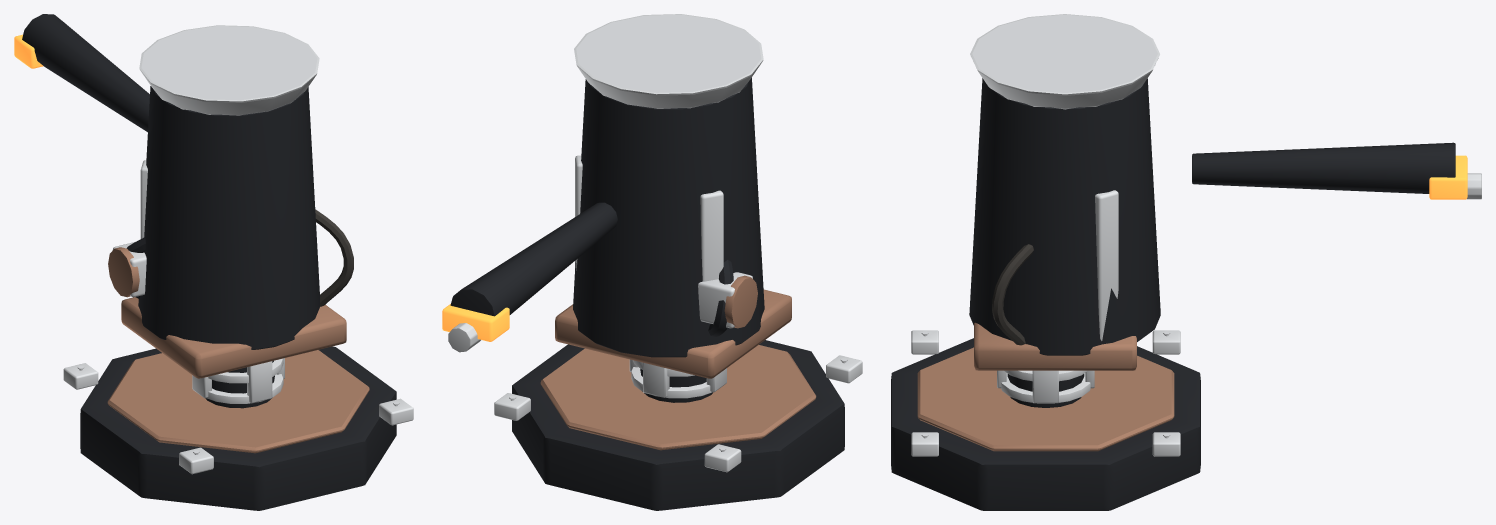
File: meltdown.glb
3 renders of one model, left to right at view 1: azimuth 30°, elevation 25°; view 2: azimuth 150°, elevation 25°; view 3: azimuth 270°, elevation 25°, orthographic. The views are drawn at different scales.
Visible parts, largest first — view 1: Tank, PedestalDeck, PedestalPanel, CrucibleRim, SpoutHousing, HeatSkirt, ReturnPipe, ValveWheel, FurnaceNeckBrace3, FurnaceNeckColumn, CornerMount2, CornerMount1 (+6 smaller); view 2: Tank, PedestalDeck, PedestalPanel, CrucibleRim, SpoutHousing, HeatSkirt, TankBrace1, SpoutLip, ValveWheel, ValveBody, CornerMount2, FurnaceNeckBrace1 (+6 smaller); view 3: Tank, PedestalDeck, PedestalPanel, CrucibleRim, SpoutHousing, HeatSkirt, TankBrace0, ReturnPipe, SpoutLip, FurnaceNeckBrace0, FurnaceNeckRing0, FurnaceNeckColumn (+4 smaller).
Boxes of the visible parts, left/top/right/bottom form: Tank: left=138, top=86, right=320, bottom=349; PedestalDeck: left=80, top=346, right=396, bottom=510; PedestalPanel: left=107, top=350, right=369, bottom=453; CrucibleRim: left=139, top=25, right=319, bottom=115; SpoutHousing: left=22, top=14, right=149, bottom=132; HeatSkirt: left=121, top=297, right=346, bottom=378; ReturnPipe: left=315, top=209, right=353, bottom=306; ValveWheel: left=108, top=247, right=139, bottom=297; FurnaceNeckBrace3: left=247, top=361, right=272, bottom=403; FurnaceNeckColumn: left=205, top=360, right=274, bottom=408; CornerMount2: left=63, top=363, right=98, bottom=389; CornerMount1: left=379, top=398, right=413, bottom=425; Tank: left=573, top=77, right=764, bottom=357; PedestalDeck: left=512, top=340, right=844, bottom=510; PedestalPanel: left=540, top=345, right=816, bottom=450; CrucibleRim: left=574, top=14, right=763, bottom=108; SpoutHousing: left=450, top=202, right=617, bottom=316; HeatSkirt: left=555, top=289, right=791, bottom=378; TankBrace1: left=700, top=190, right=723, bottom=281; SpoutLip: left=442, top=304, right=509, bottom=341; ValveWheel: left=724, top=275, right=757, bottom=328; ValveBody: left=698, top=272, right=752, bottom=328; CornerMount2: left=704, top=444, right=741, bottom=472; FurnaceNeckBrace1: left=643, top=362, right=669, bottom=397; Tank: left=969, top=78, right=1160, bottom=355; PedestalDeck: left=891, top=338, right=1200, bottom=510; PedestalPanel: left=917, top=347, right=1174, bottom=451; CrucibleRim: left=970, top=14, right=1159, bottom=109; SpoutHousing: left=1192, top=142, right=1455, bottom=193; HeatSkirt: left=974, top=322, right=1136, bottom=370; TankBrace0: left=1095, top=190, right=1118, bottom=340; ReturnPipe: left=992, top=244, right=1033, bottom=345; SpoutLip: left=1429, top=155, right=1467, bottom=199; FurnaceNeckBrace0: left=1032, top=370, right=1058, bottom=403; FurnaceNeckRing0: left=1001, top=373, right=1090, bottom=403; FurnaceNeckColumn: left=1007, top=374, right=1084, bottom=407.
Bounding box in the file's own units: 0.6467 × 0.905 × 1.23.
